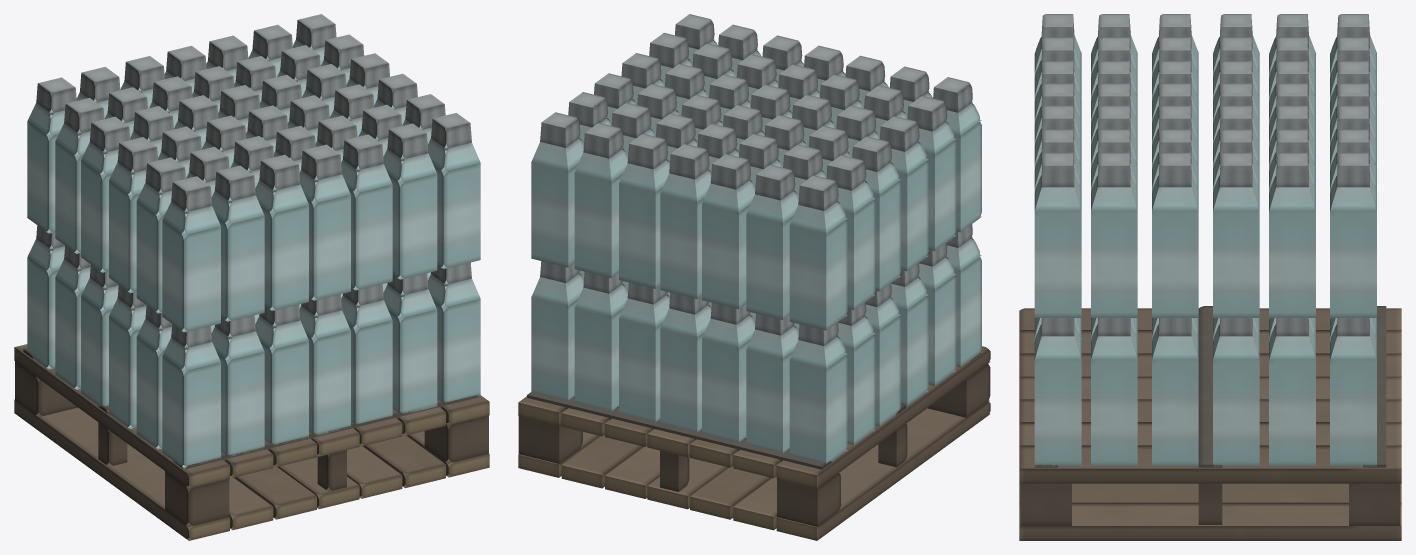
Rendered from waterpallet.obj.
The picture shows the model from 3 angles, left to right: view 1: azimuth 30°, elevation 25°; view 2: azimuth 150°, elevation 25°; view 3: azimuth 270°, elevation 25°; orthographic projection. The views are drawn at different scales.
Visible parts, largest first — view 1: yourclassnameModel0, yourclassnameModel163, yourclassnameModel37, yourclassnameModel154, yourclassnameModel28, yourclassnameModel160, yourclassnameModel34, yourclassnameModel164, yourclassnameModel157, yourclassnameModel38, yourclassnameModel31, yourclassnameModel169 (+105 smaller); view 2: yourclassnameModel0, yourclassnameModel276, yourclassnameModel150, yourclassnameModel261, yourclassnameModel270, yourclassnameModel135, yourclassnameModel144, yourclassnameModel257, yourclassnameModel271, yourclassnameModel145, yourclassnameModel131, yourclassnameModel267 (+105 smaller); view 3: yourclassnameModel21, yourclassnameModel16, yourclassnameModel20, yourclassnameModel157, yourclassnameModel31, yourclassnameModel47, yourclassnameModel68, yourclassnameModel110, yourclassnameModel173, yourclassnameModel194, yourclassnameModel215, yourclassnameModel236 (+74 smaller).
Boxes of the visible parts, left/top/right/bottom form: yourclassnameModel0: left=14, top=399, right=229, bottom=540; yourclassnameModel163: left=162, top=213, right=220, bottom=332; yourclassnameModel37: left=162, top=349, right=220, bottom=468; yourclassnameModel154: left=388, top=161, right=437, bottom=279; yourclassnameModel28: left=388, top=297, right=437, bottom=413; yourclassnameModel160: left=260, top=192, right=308, bottom=310; yourclassnameModel34: left=260, top=328, right=308, bottom=445; yourclassnameModel164: left=217, top=203, right=264, bottom=321; yourclassnameModel157: left=433, top=150, right=480, bottom=268; yourclassnameModel38: left=217, top=339, right=264, bottom=456; yourclassnameModel31: left=433, top=286, right=480, bottom=402; yourclassnameModel169: left=306, top=182, right=350, bottom=300; yourclassnameModel0: left=776, top=402, right=990, bottom=540; yourclassnameModel276: left=789, top=220, right=847, bottom=330; yourclassnameModel150: left=789, top=355, right=847, bottom=463; yourclassnameModel261: left=574, top=173, right=622, bottom=277; yourclassnameModel270: left=702, top=204, right=750, bottom=309; yourclassnameModel135: left=574, top=308, right=622, bottom=411; yourclassnameModel144: left=702, top=339, right=750, bottom=442; yourclassnameModel257: left=531, top=162, right=578, bottom=267; yourclassnameModel271: left=746, top=214, right=792, bottom=319; yourclassnameModel145: left=746, top=349, right=793, bottom=452; yourclassnameModel131: left=531, top=297, right=578, bottom=400; yourclassnameModel267: left=660, top=193, right=704, bottom=298; yourclassnameModel21: left=1019, top=504, right=1401, bottom=540; yourclassnameModel16: left=1019, top=447, right=1401, bottom=483; yourclassnameModel20: left=1019, top=483, right=1401, bottom=506; yourclassnameModel157: left=1034, top=211, right=1081, bottom=317; yourclassnameModel31: left=1034, top=360, right=1081, bottom=466; yourclassnameModel47: left=1091, top=360, right=1137, bottom=466; yourclassnameModel68: left=1152, top=360, right=1198, bottom=466; yourclassnameModel110: left=1269, top=360, right=1315, bottom=466; yourclassnameModel173: left=1091, top=211, right=1137, bottom=317; yourclassnameModel194: left=1152, top=211, right=1198, bottom=317; yourclassnameModel215: left=1213, top=211, right=1259, bottom=317; yourclassnameModel236: left=1269, top=211, right=1315, bottom=317.
Size of the model in its own units: 16.2 by 17.45 by 16.3.
